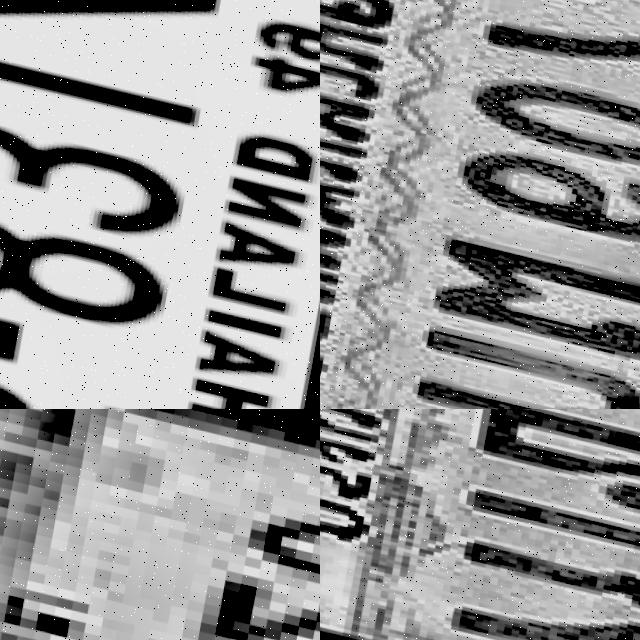license-plate: (0, 0, 320, 409), (320, 0, 640, 409), (0, 409, 320, 640), (320, 409, 640, 640)
